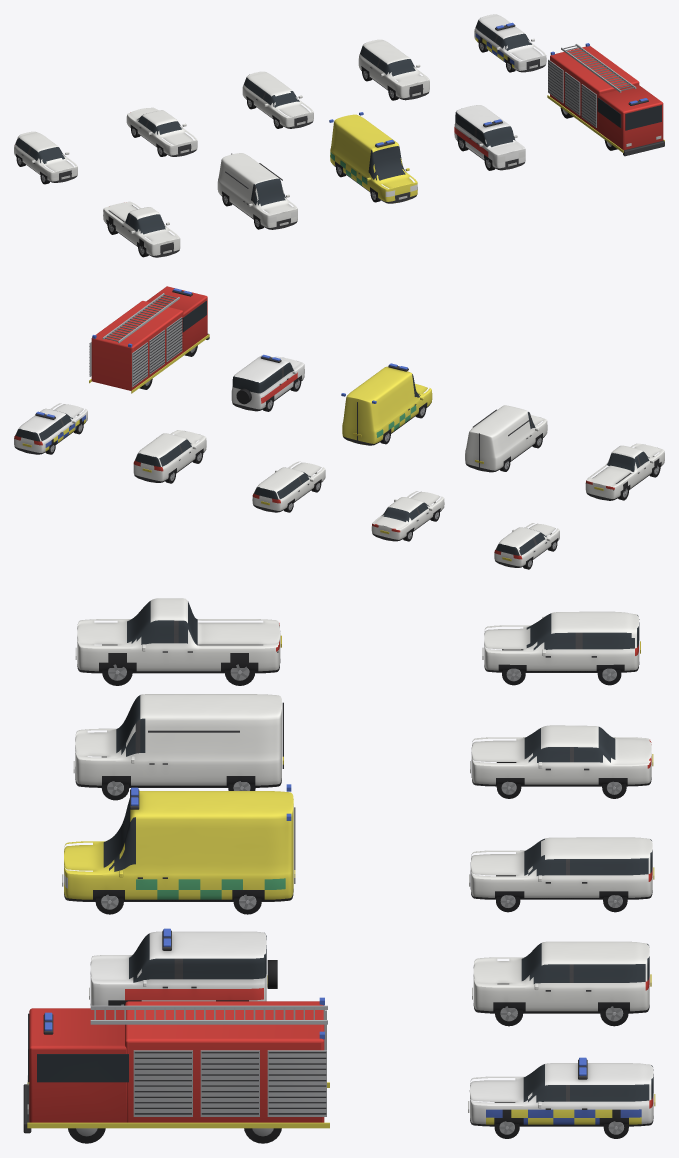
File: vehicles.glb
The picture shows the model from 3 angles, top to bottom: view 1: azimuth 30°, elevation 25°; view 2: azimuth 150°, elevation 25°; view 3: azimuth 270°, elevation 25°; orthographic projection. The views are drawn at different scales.
Visible parts, largest first — view 1: ambulance body (game), van body (game), rover body (game), suv body (game), pickup body (game), Cab (game), police body (game), estate body (game), Body (game), saloon body (game), hatch body (game), Windscreen (game) (+3 smaller); view 2: ambulance body (game), Body (game), van body (game), pickup body (game), rover body (game), suv body (game), estate body (game), police body (game), saloon body (game), hatch body (game), Cab (game), Locker.002 (game) (+2 smaller); view 3: ambulance body (game), van body (game), pickup body (game), suv body (game), rover body (game), Body (game), police body (game), estate body (game), saloon body (game), hatch body (game), Cab (game), Locker.003 (game) (+7 smaller).
Boxes of the visible parts, <box> form: ambulance body (game): <box>330,114,417,203</box>; van body (game): <box>217,153,297,229</box>; rover body (game): <box>454,105,525,170</box>; suv body (game): <box>358,39,429,100</box>; pickup body (game): <box>103,201,180,257</box>; Cab (game): <box>599,85,663,150</box>; police body (game): <box>474,14,546,72</box>; estate body (game): <box>242,71,313,128</box>; Body (game): <box>550,46,639,131</box>; saloon body (game): <box>126,107,197,156</box>; hatch body (game): <box>14,131,77,182</box>; Windscreen (game): <box>625,105,661,130</box>; ambulance body (game): <box>342,366,432,445</box>; Body (game): <box>91,301,183,390</box>; van body (game): <box>465,405,547,472</box>; pickup body (game): <box>585,443,664,500</box>; rover body (game): <box>231,355,304,411</box>; suv body (game): <box>133,430,206,482</box>; estate body (game): <box>252,461,325,512</box>; police body (game): <box>14,403,87,454</box>; saloon body (game): <box>371,491,444,541</box>; hatch body (game): <box>494,523,559,567</box>; Cab (game): <box>146,286,207,352</box>; Locker.002 (game): <box>166,317,182,361</box>; ambulance body (game): <box>64,791,293,901</box>; van body (game): <box>75,694,281,787</box>; pickup body (game): <box>77,598,280,673</box>; suv body (game): <box>473,941,649,1013</box>; rover body (game): <box>90,931,266,1005</box>; Body (game): <box>125,1001,324,1122</box>; police body (game): <box>469,1063,653,1126</box>; estate body (game): <box>470,837,652,899</box>; saloon body (game): <box>471,725,651,786</box>; hatch body (game): <box>484,611,639,672</box>; Cab (game): <box>29,1008,126,1122</box>; Locker.003 (game): <box>267,1050,326,1116</box>.
Size of the model in its own units: 30.44 by 3.2 by 16.5.
